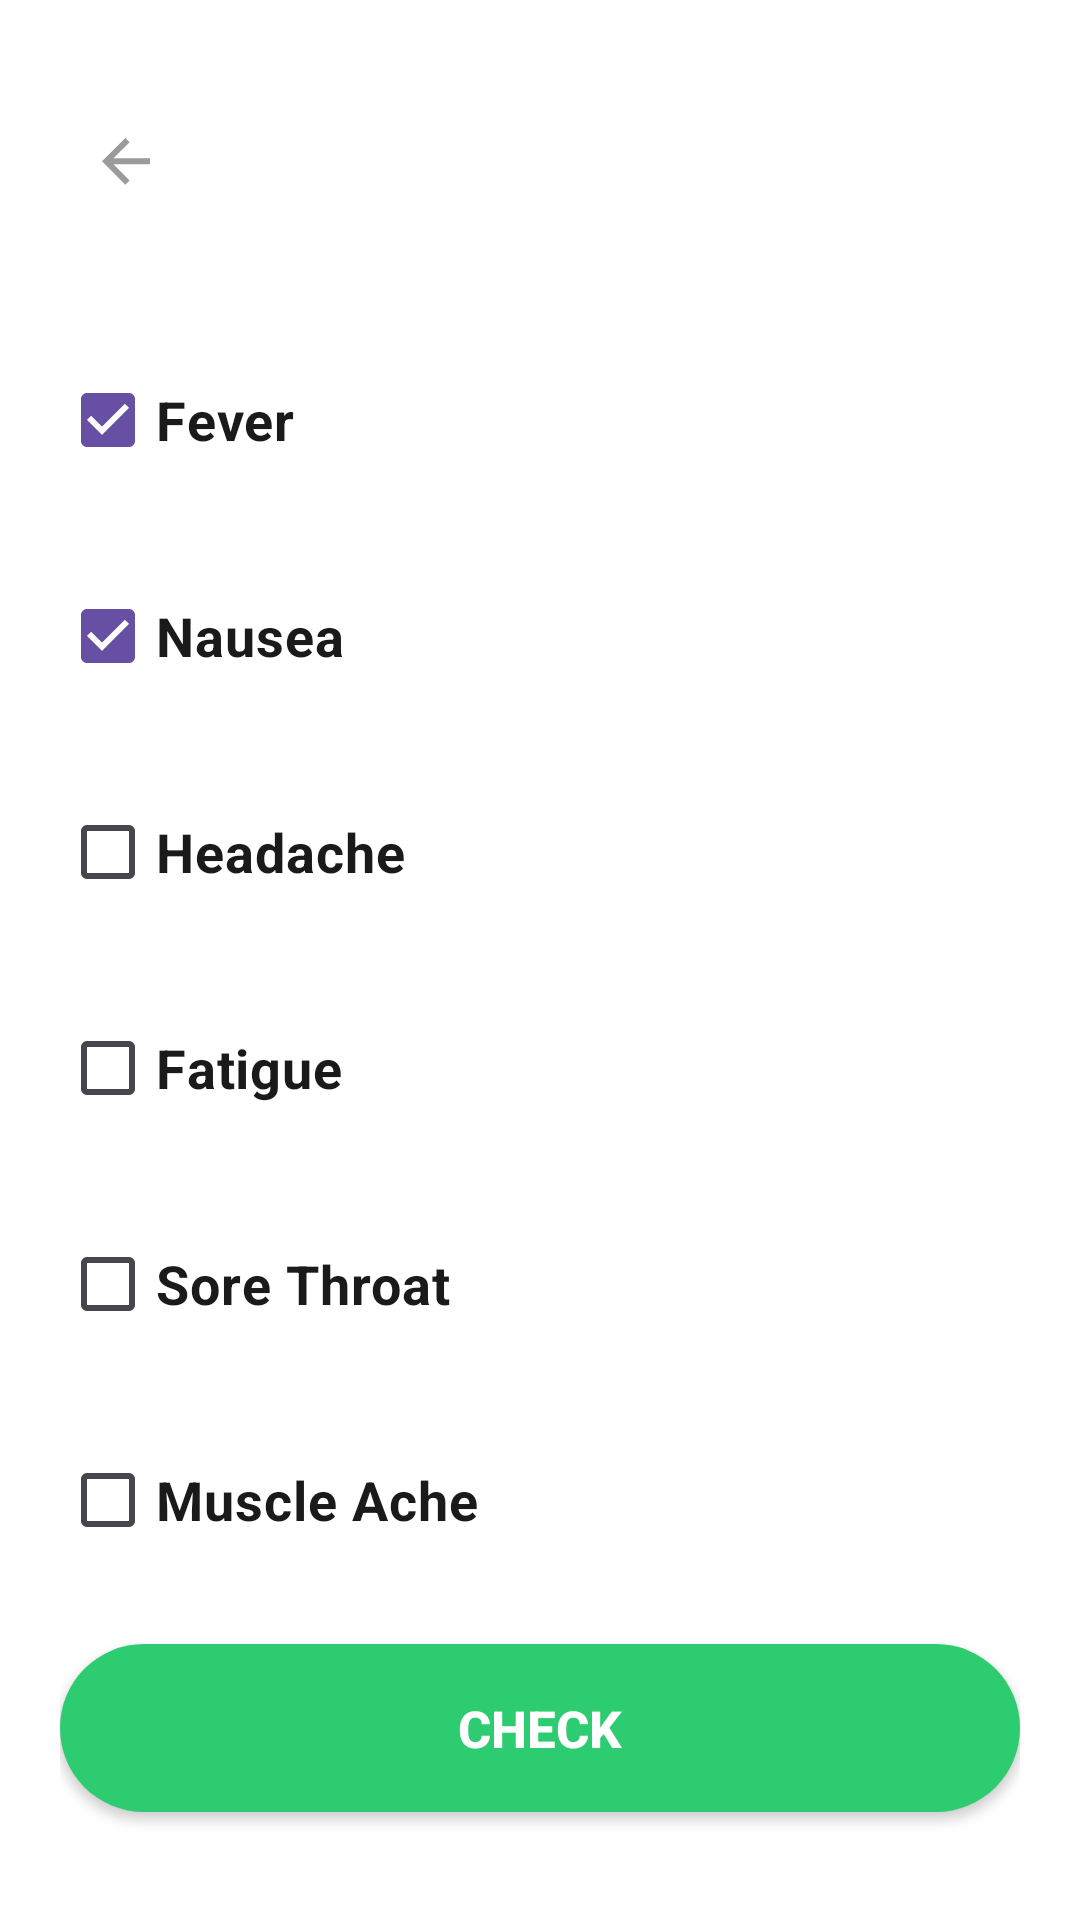

Named icons in this screenshot (1080 × 1920) and their centers, (x=x, y=y):
Back: (x=126, y=161)
